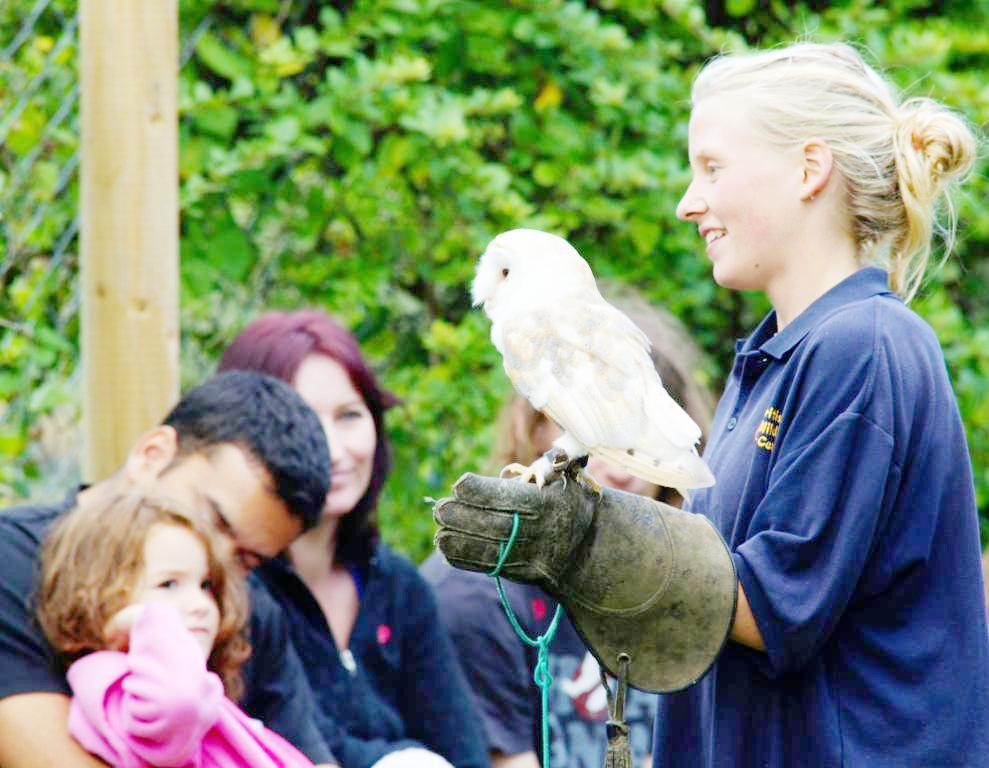Owl: (468, 228, 712, 490)
